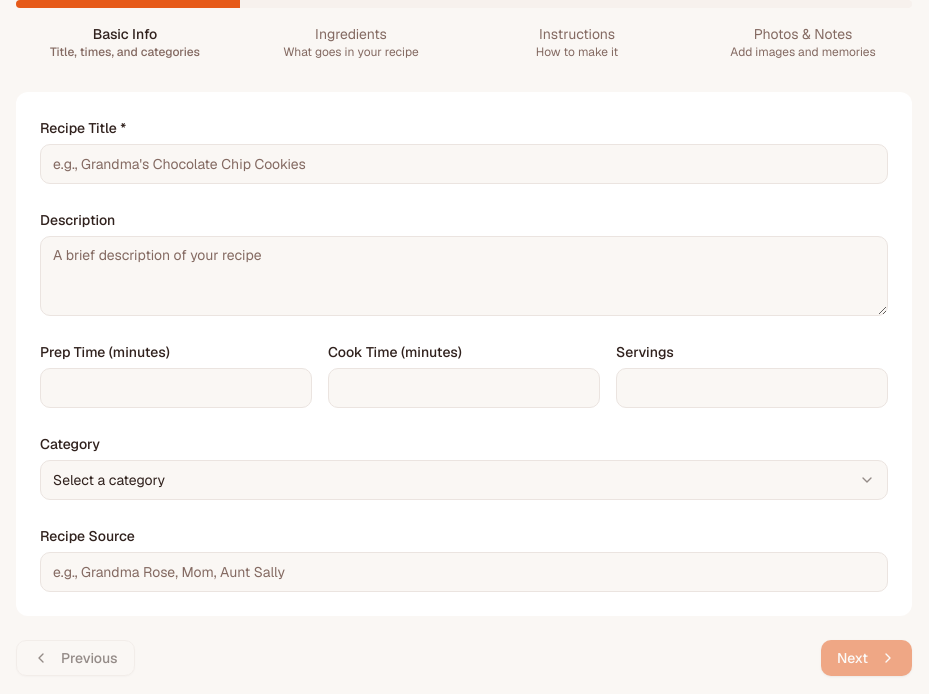
Test case: RecipeFormValidation › Ingredients Step Validation › should disable next button when no ingredients are added
The width and height of the screenshot is (929, 694).
// Navigate to ingredients step
Type "Test Recipe" into the field labelled "Recipe Title *" at (464,164), box top-left (40, 144), bottom-right (888, 184)
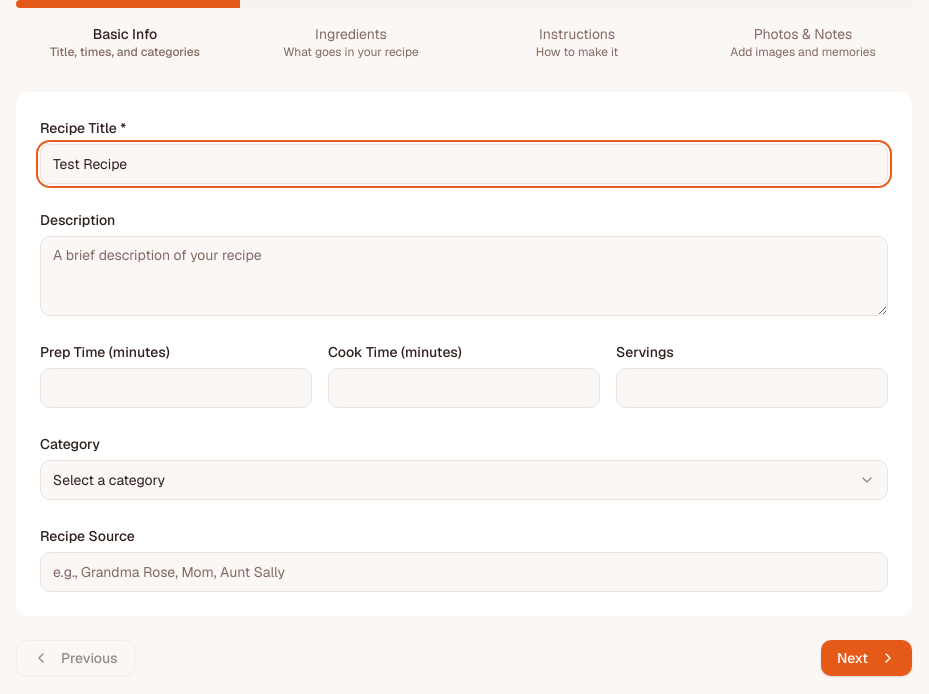
Click the button "Next" at (866,658), box top-left (821, 640), bottom-right (912, 676)
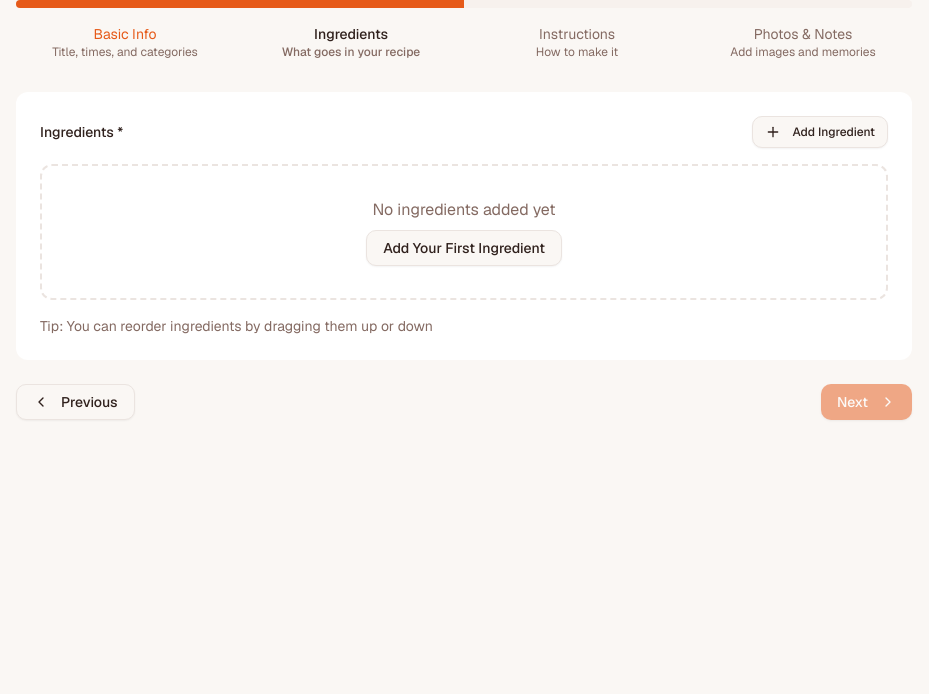
expect the button "Next" is disabled: met, box top-left (821, 384), bottom-right (912, 420)
